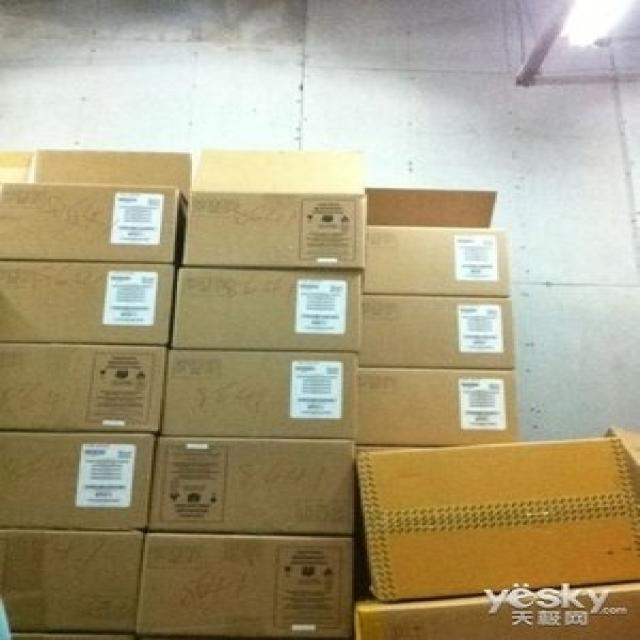box: (135, 531, 353, 638), (146, 435, 355, 537), (160, 348, 358, 439), (171, 266, 363, 353), (0, 181, 190, 266), (0, 430, 159, 531), (0, 260, 175, 348), (0, 529, 145, 633), (183, 192, 366, 268), (355, 365, 518, 447), (358, 295, 516, 367), (362, 226, 511, 297)
